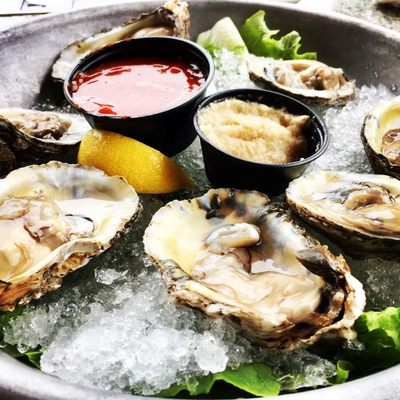soup: (0, 161, 145, 368)
sushi: (52, 34, 215, 157), (193, 88, 330, 196)
taco: (74, 128, 194, 195)
